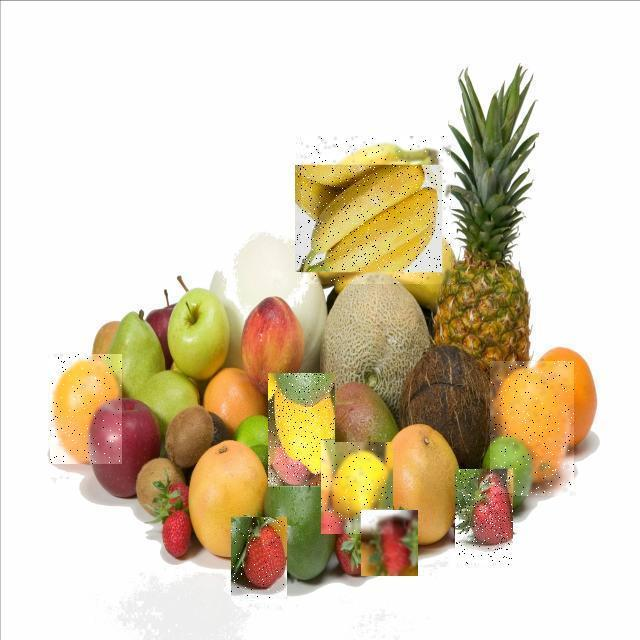Banana: (301, 136, 451, 284), (295, 165, 442, 272)
Lemon: (268, 374, 335, 490), (321, 442, 393, 534)
Orange: (490, 361, 574, 496), (50, 354, 122, 464)
Straw Berry: (455, 470, 513, 566), (231, 517, 287, 599), (361, 510, 418, 576)
